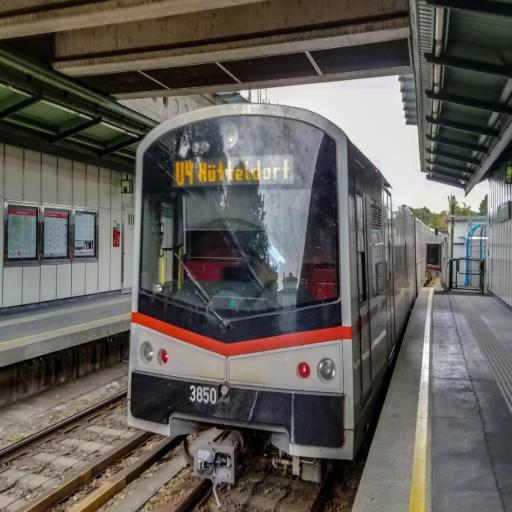V-Wagen: (131, 97, 429, 466)
